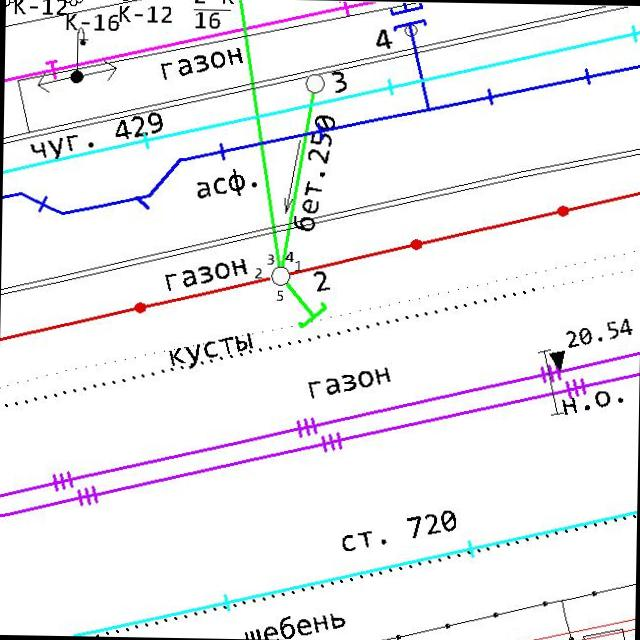mark: (547, 348, 567, 372)
well: (268, 264, 292, 288), (304, 72, 326, 95)
